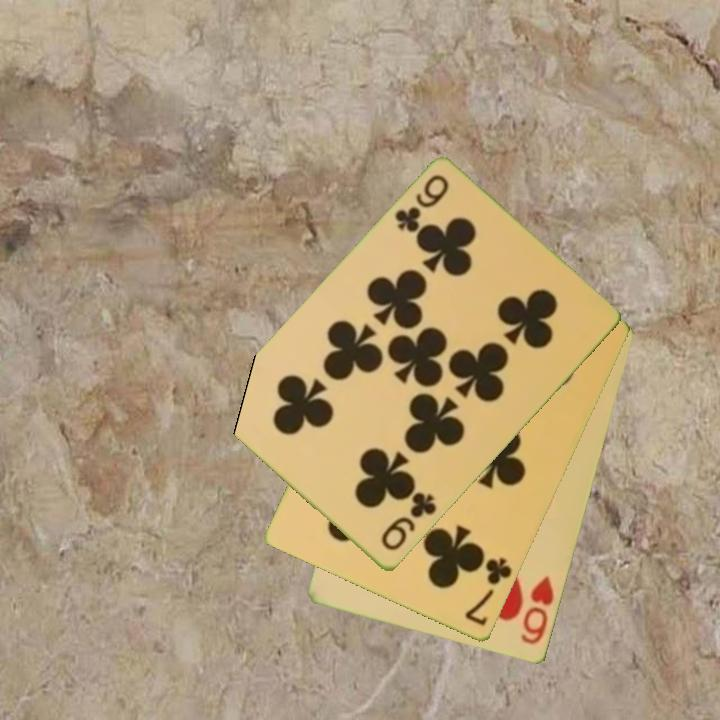6h: (517, 572, 557, 648)
7c: (461, 554, 515, 629)
9c: (377, 489, 440, 555), (391, 171, 452, 237)
